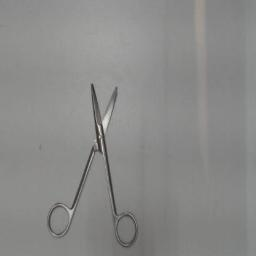Curved Mayo Scissors: (46, 76, 140, 252)
